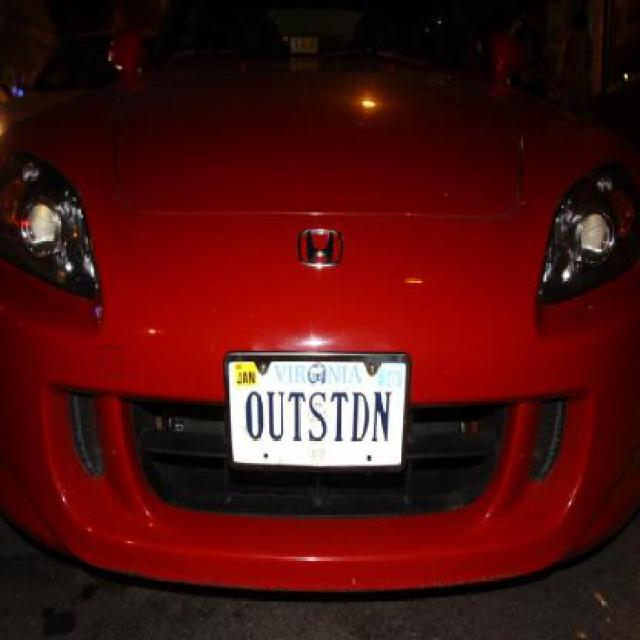License-Plates: (223, 352, 412, 472)
